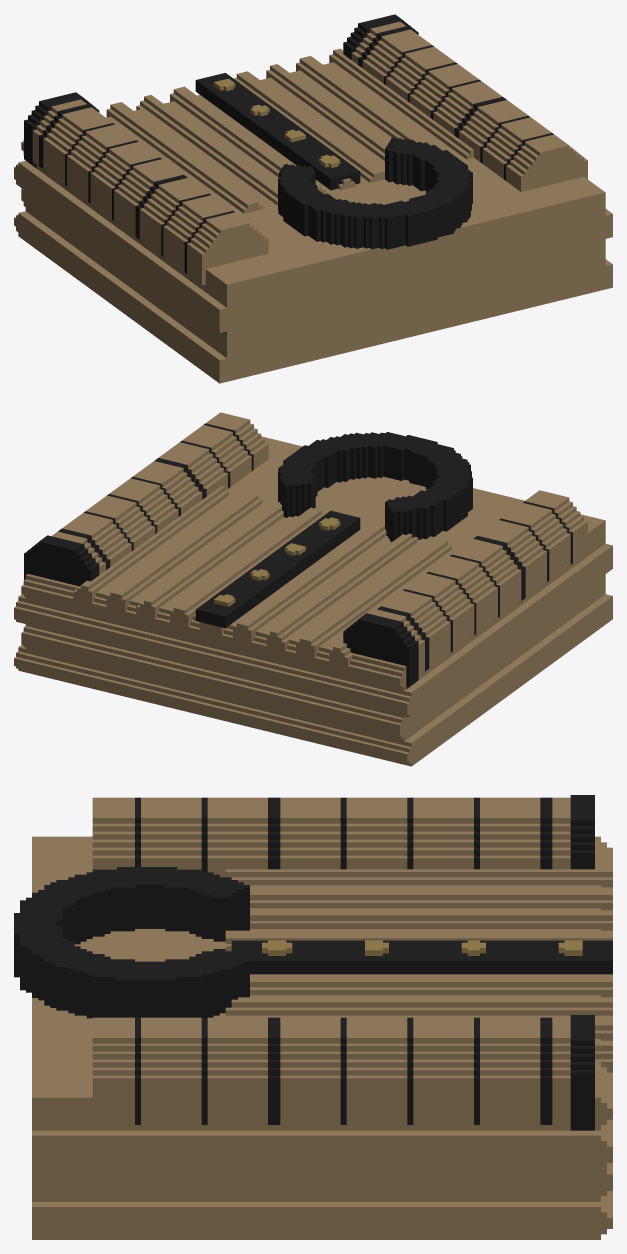
Rendered from gambeson_nylon.glb.
3 renders of one model, top to bottom at view 1: azimuth 30°, elevation 25°; view 2: azimuth 150°, elevation 25°; view 3: azimuth 270°, elevation 25°, orthographic. The views are drawn at different scales.
Parts seen in each view (by area): view 1: gambeson_nylon:compound; view 2: gambeson_nylon:compound; view 3: gambeson_nylon:compound.
Boxes of the visible parts, box(x1,y1,x2,y2) form: gambeson_nylon:compound: box(14, 14, 612, 383); gambeson_nylon:compound: box(14, 412, 612, 766); gambeson_nylon:compound: box(14, 795, 612, 1239).
Bounding box in the file's own units: 0.424 × 0.136 × 0.396.
